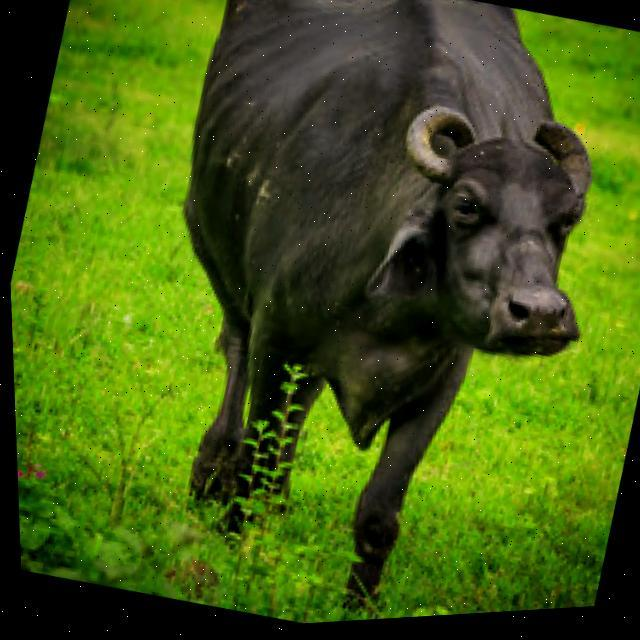Buffalo: (73, 0, 640, 636)
